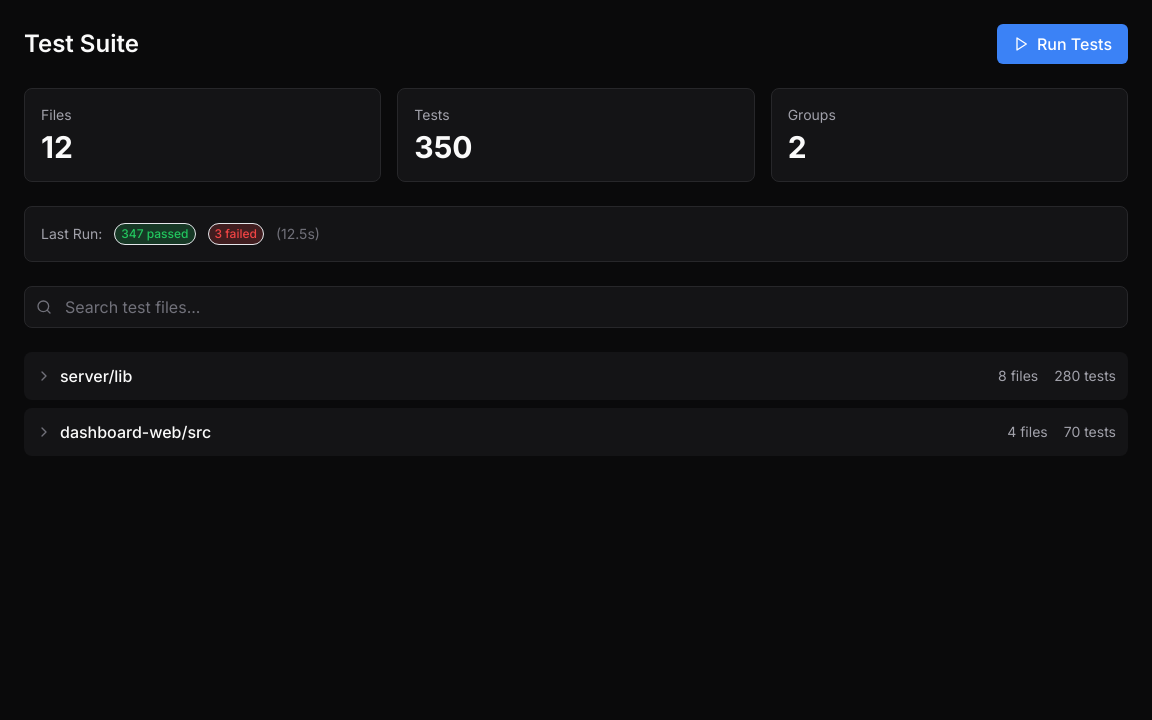
TestSuitePage › click group expands to show files
The image size is (1152, 720).
Note: Click first group to expand
Click the element with test id "group-row" showing "server/lib 8 files 280 tests": [576, 376] box [24, 352, 1128, 400]
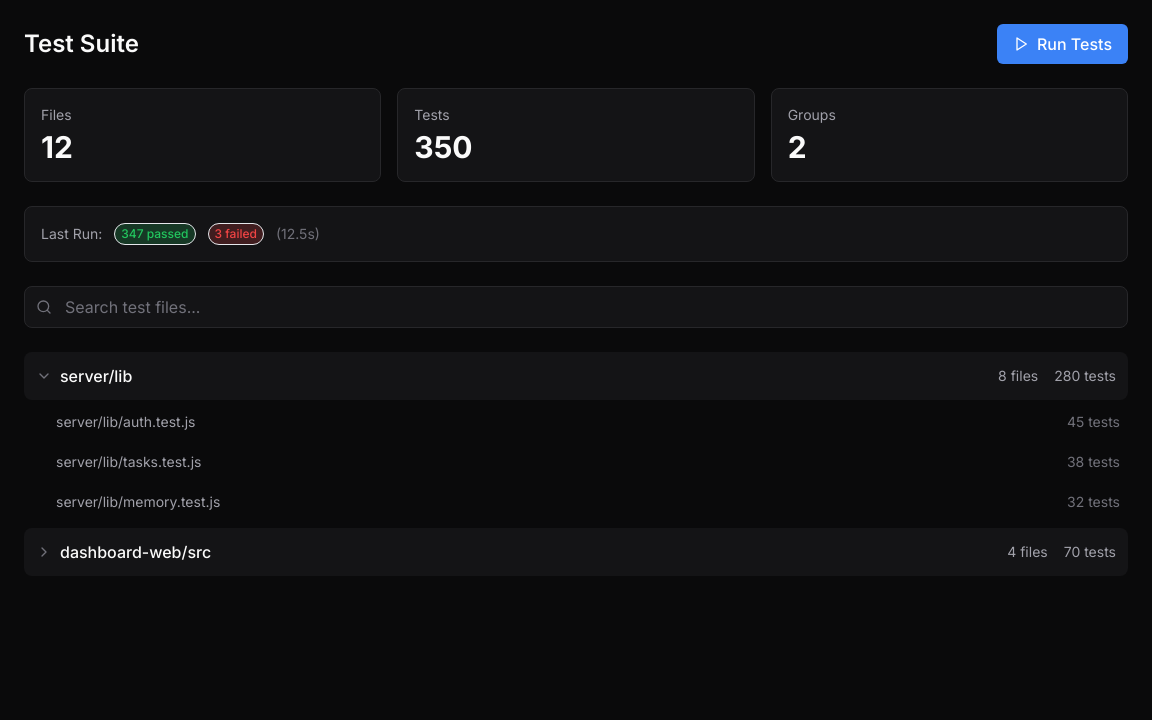
Result: the number of elements with test id "file-row" is 3 at [56, 413, 1120, 430]; [56, 453, 1120, 470]; [56, 493, 1120, 510]
Result: the text with test id "file-name" reads "server/lib/auth.test.js" at [56, 413, 196, 430]
Result: the text with test id "file-name" reads "server/lib/tasks.test.js" at [56, 453, 201, 470]
